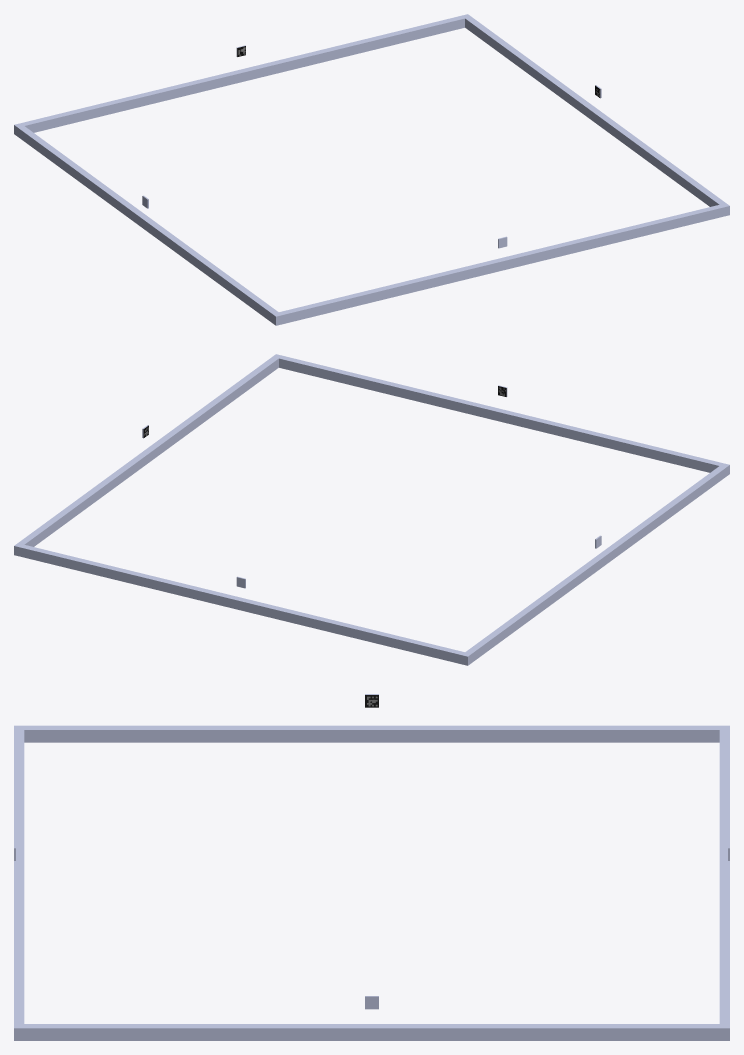
Rendered from arena.obj.
The picture shows the model from 3 angles, top to bottom: view 1: azimuth 30°, elevation 25°; view 2: azimuth 150°, elevation 25°; view 3: azimuth 270°, elevation 25°; orthographic projection. The views are drawn at different scales.
Parts seen in each view (by area): view 1: mesh11, mesh12, mesh8, mesh13, mesh9; view 2: mesh11, mesh14, mesh6, mesh13, mesh9; view 3: mesh11, mesh15, mesh7.
Boxes of the visible parts, <box> form: mesh11: <box>14,14,729,316</box>; mesh12: <box>276,206,729,325</box>; mesh8: <box>25,18,464,132</box>; mesh13: <box>14,125,275,325</box>; mesh9: <box>465,18,719,206</box>; mesh11: <box>14,354,729,656</box>; mesh14: <box>14,546,467,665</box>; mesh6: <box>279,358,718,472</box>; mesh13: <box>468,465,729,665</box>; mesh9: <box>24,358,278,546</box>; mesh11: <box>14,725,729,1028</box>; mesh15: <box>14,1028,729,1040</box>; mesh7: <box>24,730,719,742</box>.
Size of the model in its own units: 10.3 by 0.7 by 10.3.
5 materials, 4 textured.
